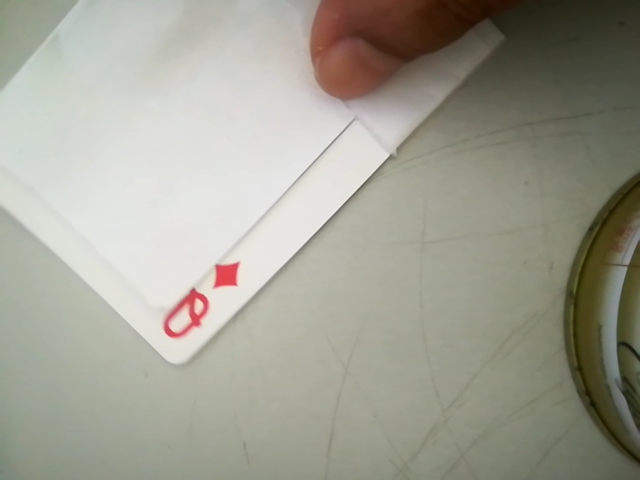fk q: (146, 260, 242, 355)
